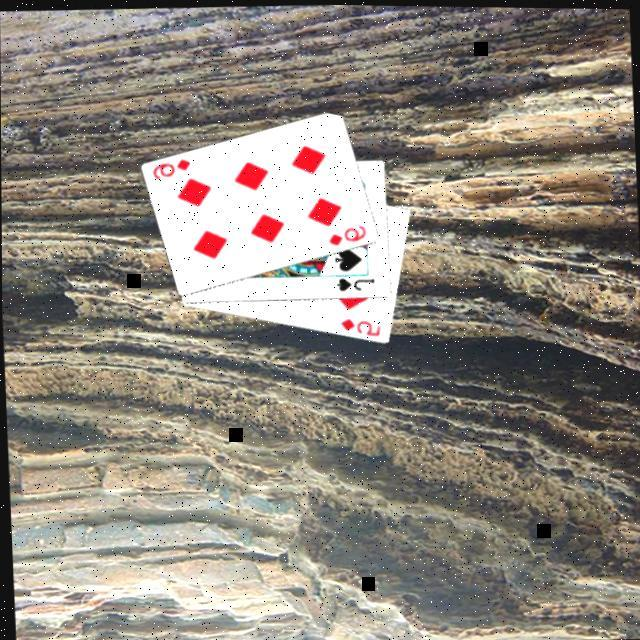5D: (335, 314, 382, 341)
6D: (148, 156, 193, 184), (324, 222, 368, 250)
JS: (332, 274, 376, 296)
